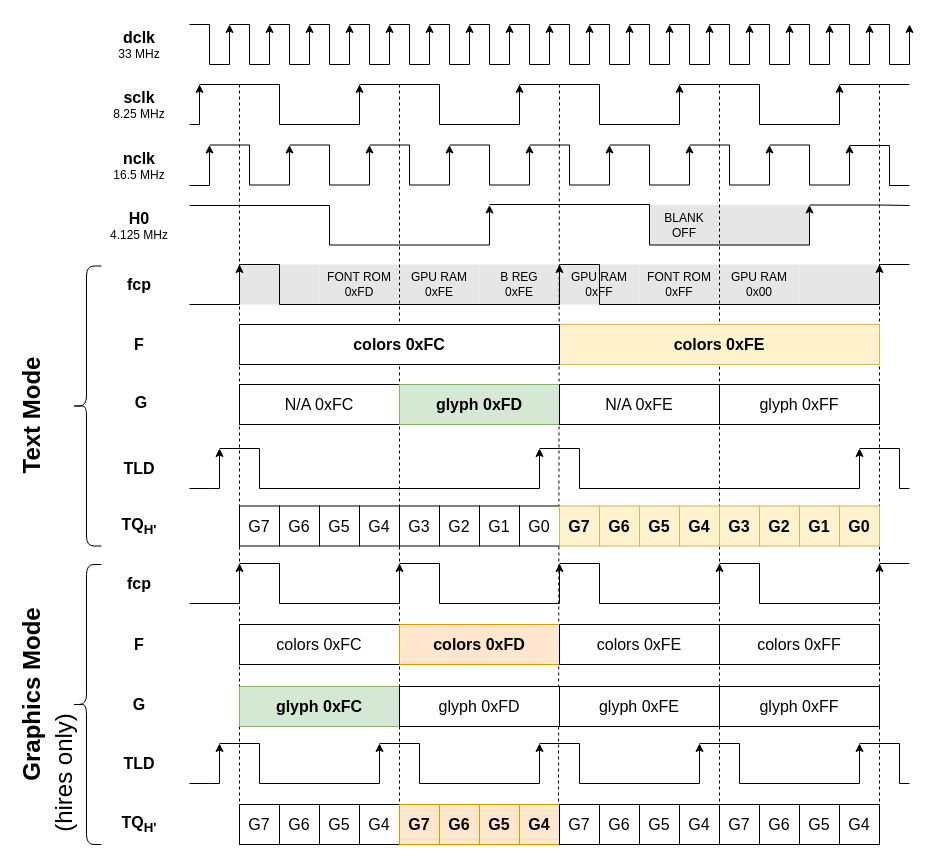
Image size: 935x862. Some labels were removed from this diagram. Here are the shapes that lost their labels. From the top down, the box of each, then its label:
(719, 204, 809, 244): HORZ START
(239, 264, 319, 304): GPU RAM 0xFD
(799, 264, 879, 304): B REG 0x00
